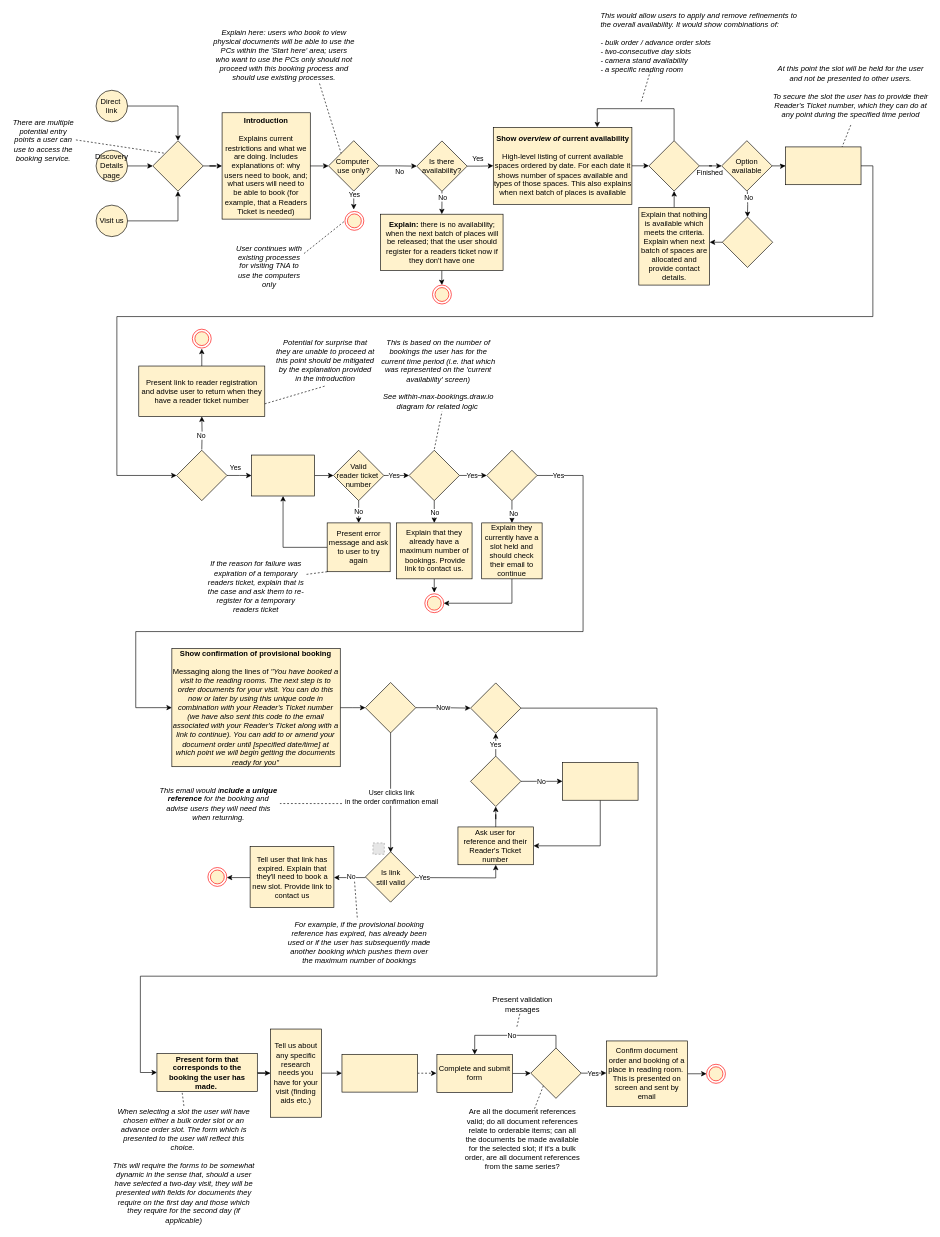
Image size: 940x1237. Some labels were removed from this diagram. Grey dashed boxes stand in for pictures. Here are the shapes that lost their labels. From the top down, the box of each, then its label:
(648, 140, 699, 191): Refine view
(785, 146, 861, 185): Selects a slot to hold (for a specified time period)
(176, 450, 227, 501): Has a reader ticket?
(251, 454, 315, 496): Enter reader ticket number to hold slot
(408, 450, 459, 501): Within max bookings
(486, 450, 537, 501): No slots currently held
(365, 682, 416, 733): Continue
(470, 755, 521, 807): Supplied information is valid
(562, 762, 638, 800): Explain that reference and/or Reader's Ticket are not valid
(341, 1054, 418, 1092): Do you have accessibility needs for your visit?
(530, 1047, 581, 1098): All is OK
